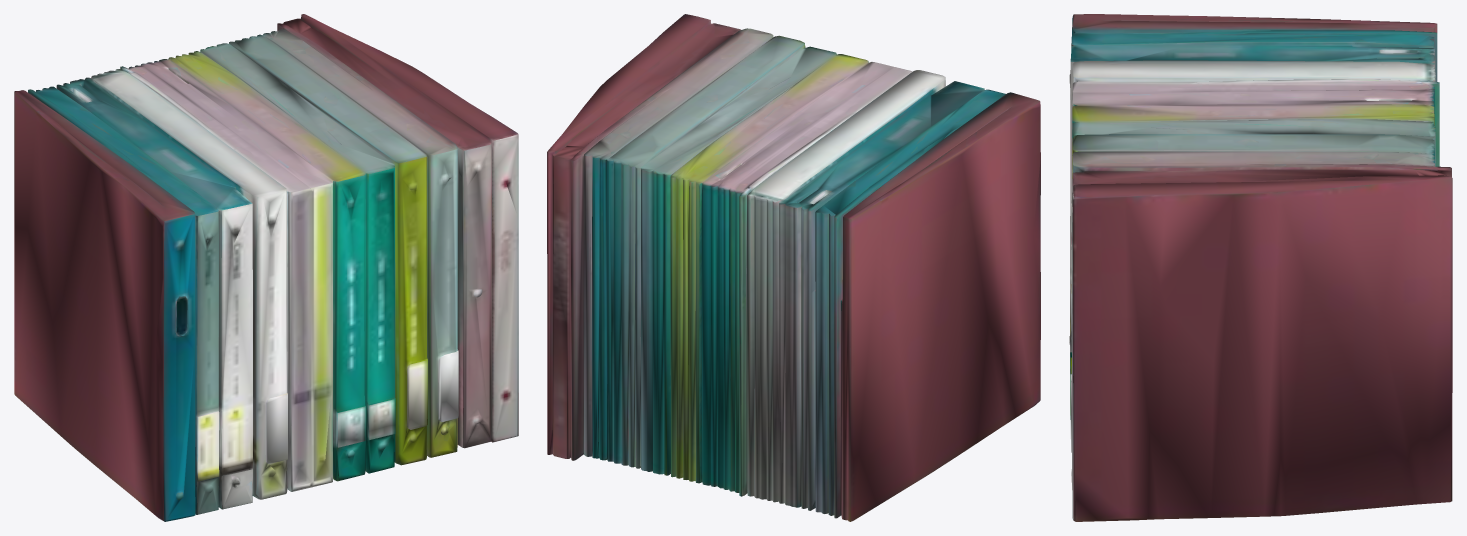
Rendered from notebooks.glb.
3 views of the same model, side by side, from view 1: azimuth 30°, elevation 25°; view 2: azimuth 150°, elevation 25°; view 3: azimuth 270°, elevation 25° (orthographic). The views are drawn at different scales.
Visible parts, largest first — view 1: node_0; view 2: node_0; view 3: node_0.
Part boxes in pixels (<box>): node_0: <box>14,14,518,521</box>; node_0: <box>547,14,1040,521</box>; node_0: <box>1069,14,1452,521</box>.
Size of the model in its own units: 0.7788 by 0.6338 by 0.6785.
Materials: 1 (1 with a texture image).
